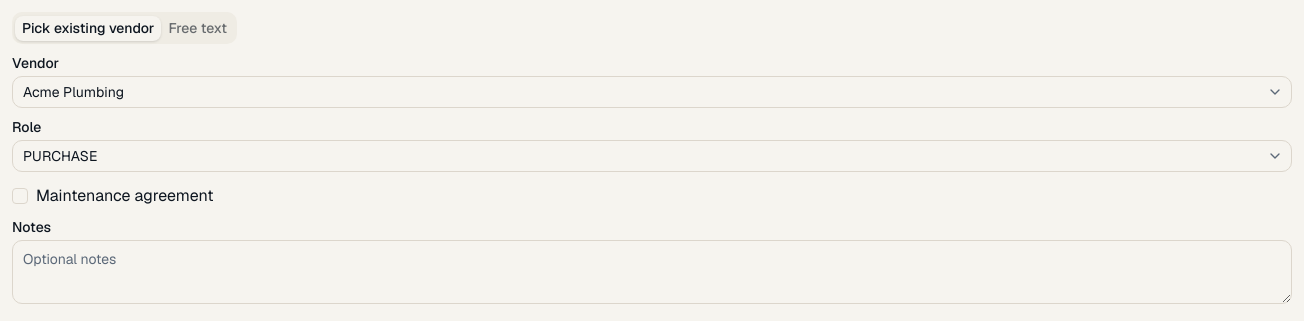
Scenario: VendorLinkEditor › availableRoles restricts the role select to the given subset
// Open the role select
Click the dropdown named "Role" at (60, 156), box [12,140,1292,172]
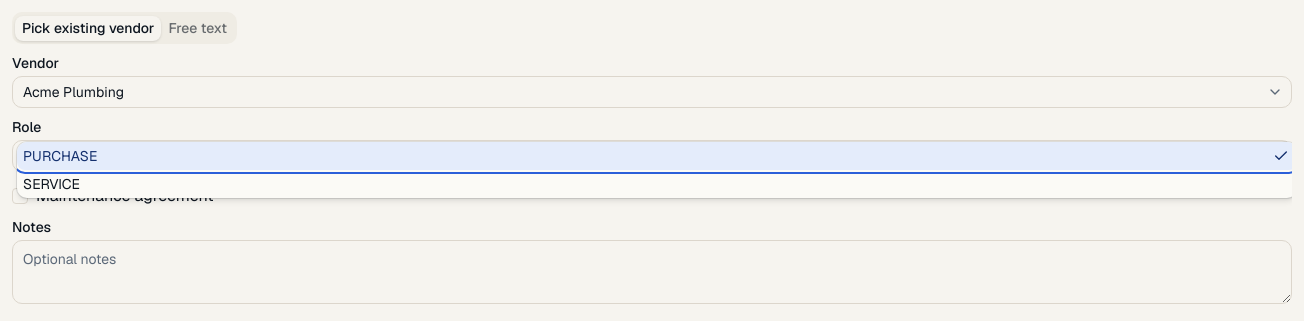
Expected: the option "SERVICE" is shown, [23,175,80,193]
